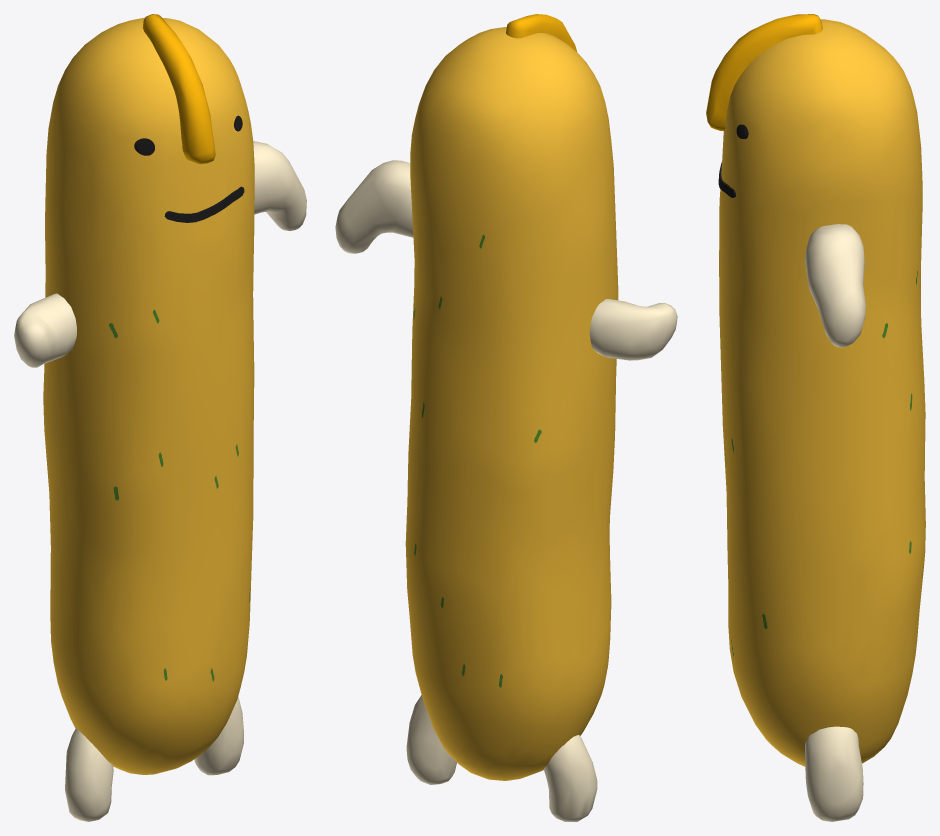
Rendered from longchi.glb.
3 views of the same model, side by side, from view 1: azimuth 30°, elevation 25°; view 2: azimuth 150°, elevation 25°; view 3: azimuth 270°, elevation 25° (orthographic).
Visible parts, largest first — view 1: 롱치떼링_lowpoly_color; view 2: 롱치떼링_lowpoly_color; view 3: 롱치떼링_lowpoly_color.
Boxes of the visible parts, x1,y1,x2,y2 form: 롱치떼링_lowpoly_color: (14, 14, 306, 821); 롱치떼링_lowpoly_color: (335, 14, 677, 821); 롱치떼링_lowpoly_color: (706, 14, 925, 821).
Size of the model in its own units: 115 by 280 by 71.46.
Materials: 4 (1 with a texture image).
